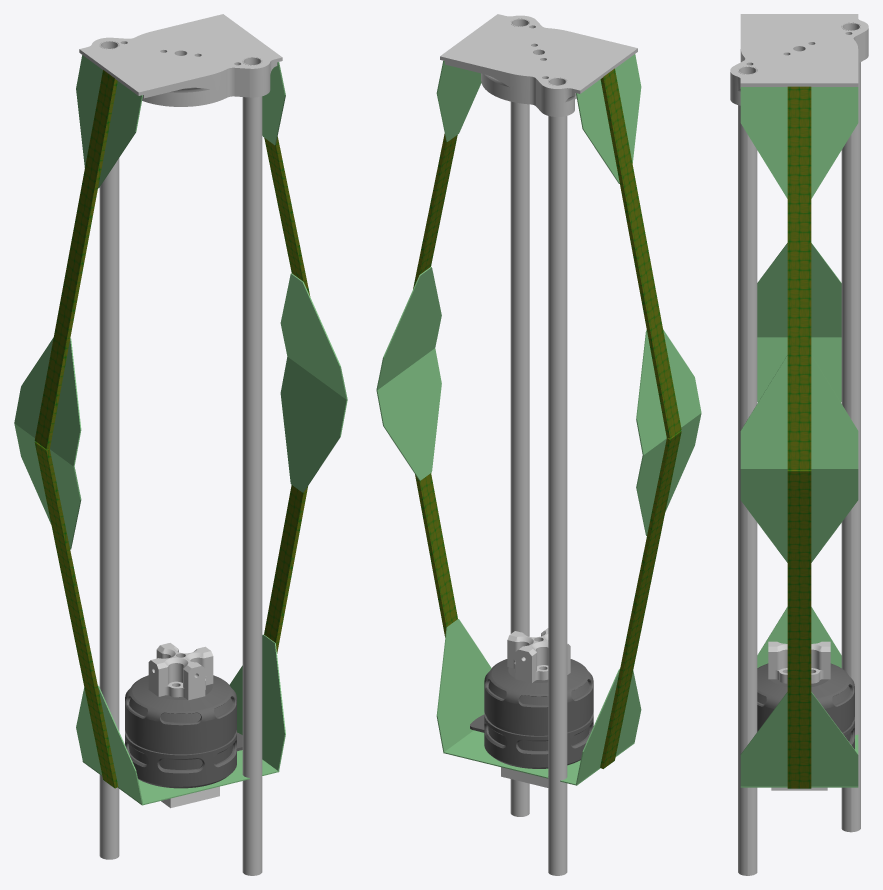
3 renders of one model, left to right at view 1: azimuth 30°, elevation 25°; view 2: azimuth 150°, elevation 25°; view 3: azimuth 270°, elevation 25°, orthographic. The views are drawn at different scales.
Visible parts, largest first — view 1: Body24, Body23, Body22, Body6, Body1, Body15, Body13, Body17, Body12, Body11, Body1.001, Body14 (+4 smaller); view 2: Body23, Body24, Body22, Body6, Body1, Body15, Body14, Body13, Body17, Body12, Body11, Body9 (+4 smaller); view 3: Body13, Body24, Body23, Body22, Body17, Body16, Body14, Body15, Body12, Body1, Body10, Body1.001 (+1 smaller).
Part boxes in pixels (x1,y1,x2,y2): Body24: (242,57,262,875); Body23: (99,41,119,859); Body22: (79,14,282,106); Body6: (34,70,118,788); Body1: (125,675,242,788); Body15: (280,357,347,492); Body13: (264,137,310,653); Body17: (280,273,347,399); Body12: (14,337,81,466); Body11: (76,55,142,188); Body1.001: (148,643,213,700); Body14: (229,634,285,770); Body23: (548,77,567,875); Body24: (510,18,529,816); Body22: (440,14,637,116); Body6: (600,68,681,768); Body1: (470,659,593,768); Body15: (376,348,441,480); Body14: (436,619,491,751); Body13: (413,133,457,637); Body17: (376,267,441,389); Body12: (636,329,701,455); Body11: (576,54,641,183); Body9: (576,669,641,784); Body13: (787,86,811,788); Body24: (738,66,757,875); Body23: (841,22,860,832); Body22: (730,14,868,105); Body17: (740,355,858,468); Body16: (740,87,858,198); Body14: (740,692,858,786); Body15: (740,469,858,562); Body12: (757,243,841,337); Body1: (757,663,854,749); Body10: (757,337,841,402); Body1.001: (768,641,830,683).
Bounding box in the file's own units: 11.39 × 31.4 × 4.92.
5 materials, 1 textured.
